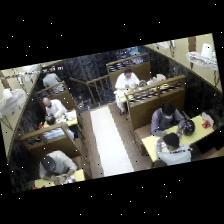person: (114, 69, 139, 115), (40, 151, 77, 182), (156, 133, 191, 165), (151, 104, 185, 136), (43, 98, 67, 118), (43, 67, 61, 88), (63, 120, 78, 141)
